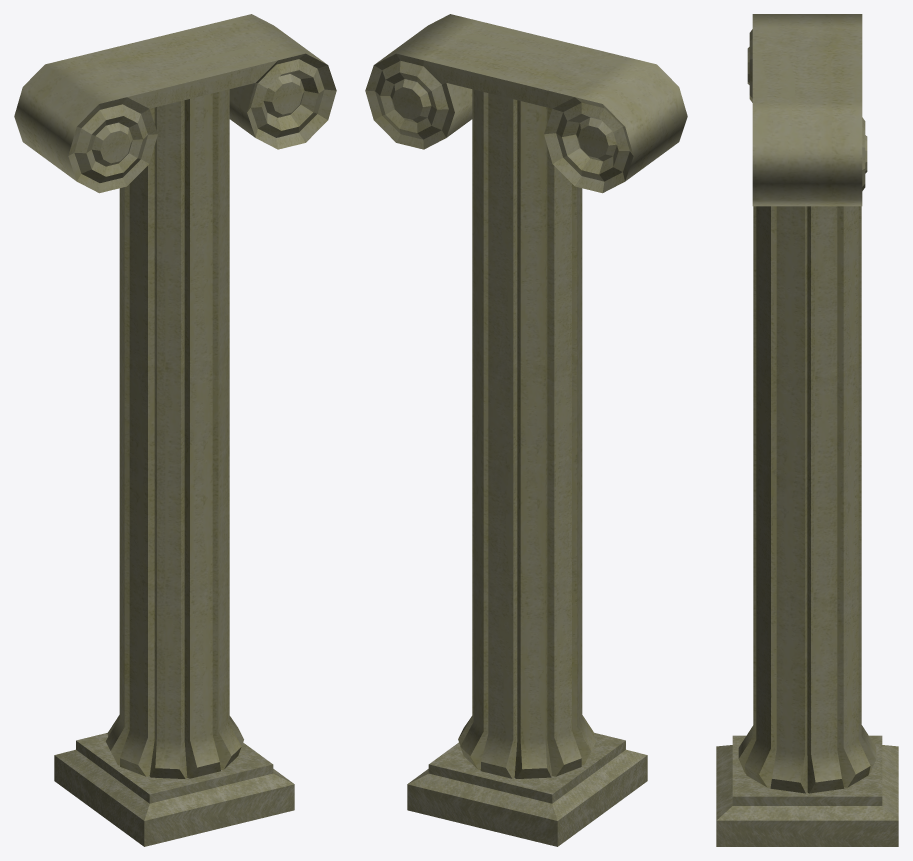
Rendered from Pillar.fbx.
The picture shows the model from 3 angles, left to right: view 1: azimuth 30°, elevation 25°; view 2: azimuth 150°, elevation 25°; view 3: azimuth 270°, elevation 25°; orthographic projection.
Parts seen in each view (by area): view 1: Pillar; view 2: Pillar; view 3: Pillar.
Boxes of the visible parts, bbox=[...] form: Pillar: bbox=[14, 14, 336, 846]; Pillar: bbox=[365, 14, 687, 846]; Pillar: bbox=[716, 14, 898, 846].
Bounding box in the file's own units: 0.0191 × 0.05 × 0.0111.
